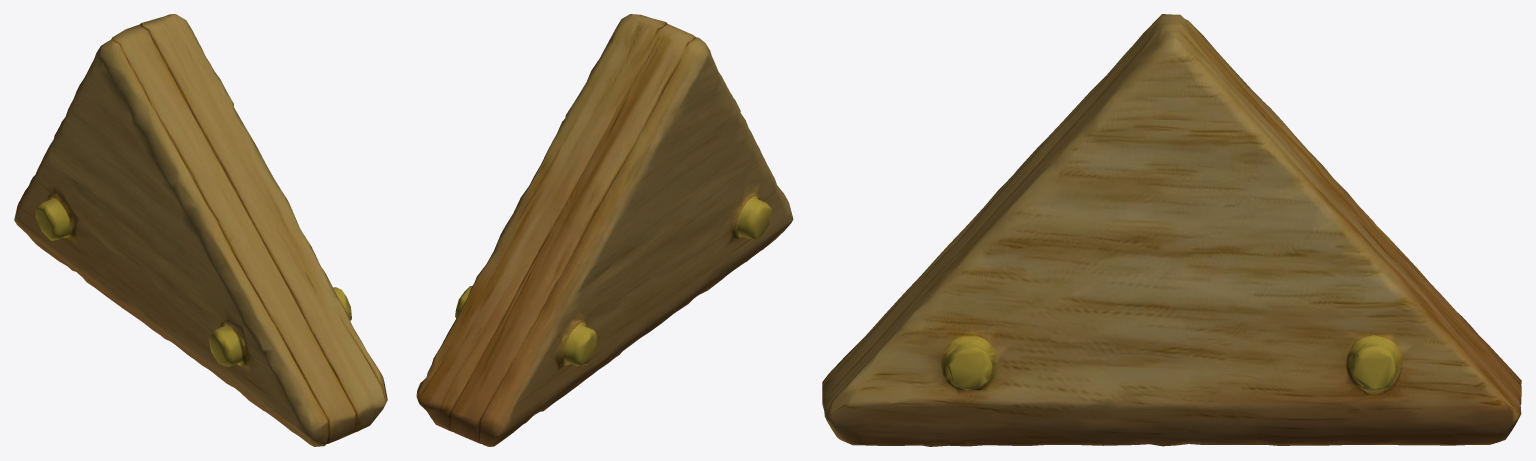
File: seesaw-block.glb
The picture shows the model from 3 angles, left to right: view 1: azimuth 30°, elevation 25°; view 2: azimuth 150°, elevation 25°; view 3: azimuth 270°, elevation 25°; orthographic projection. The views are drawn at different scales.
Parts seen in each view (by area): view 1: tripo_node_ef55bf9c-2048-472c-aa6f-0696f63ba6fd; view 2: tripo_node_ef55bf9c-2048-472c-aa6f-0696f63ba6fd; view 3: tripo_node_ef55bf9c-2048-472c-aa6f-0696f63ba6fd.
Part boxes in pixels (bbox=[...]): tripo_node_ef55bf9c-2048-472c-aa6f-0696f63ba6fd: bbox=[14, 14, 387, 446]; tripo_node_ef55bf9c-2048-472c-aa6f-0696f63ba6fd: bbox=[416, 14, 793, 446]; tripo_node_ef55bf9c-2048-472c-aa6f-0696f63ba6fd: bbox=[822, 14, 1521, 446].
Size of the model in its own units: 0.3062 by 0.6146 by 1.
Materials: 1 (1 with a texture image).
